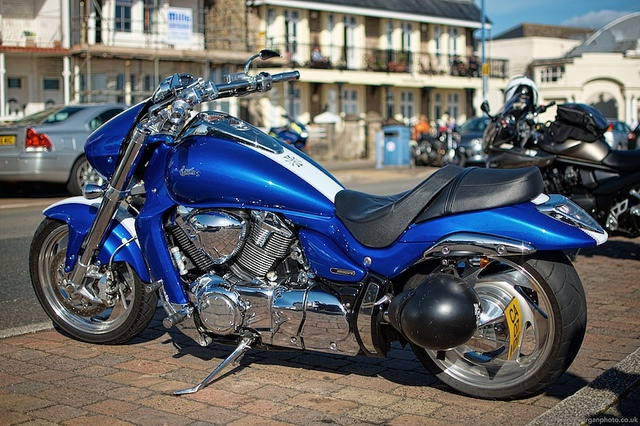non-vehicle: (27, 49, 607, 401), (473, 96, 640, 239), (426, 125, 467, 165)
